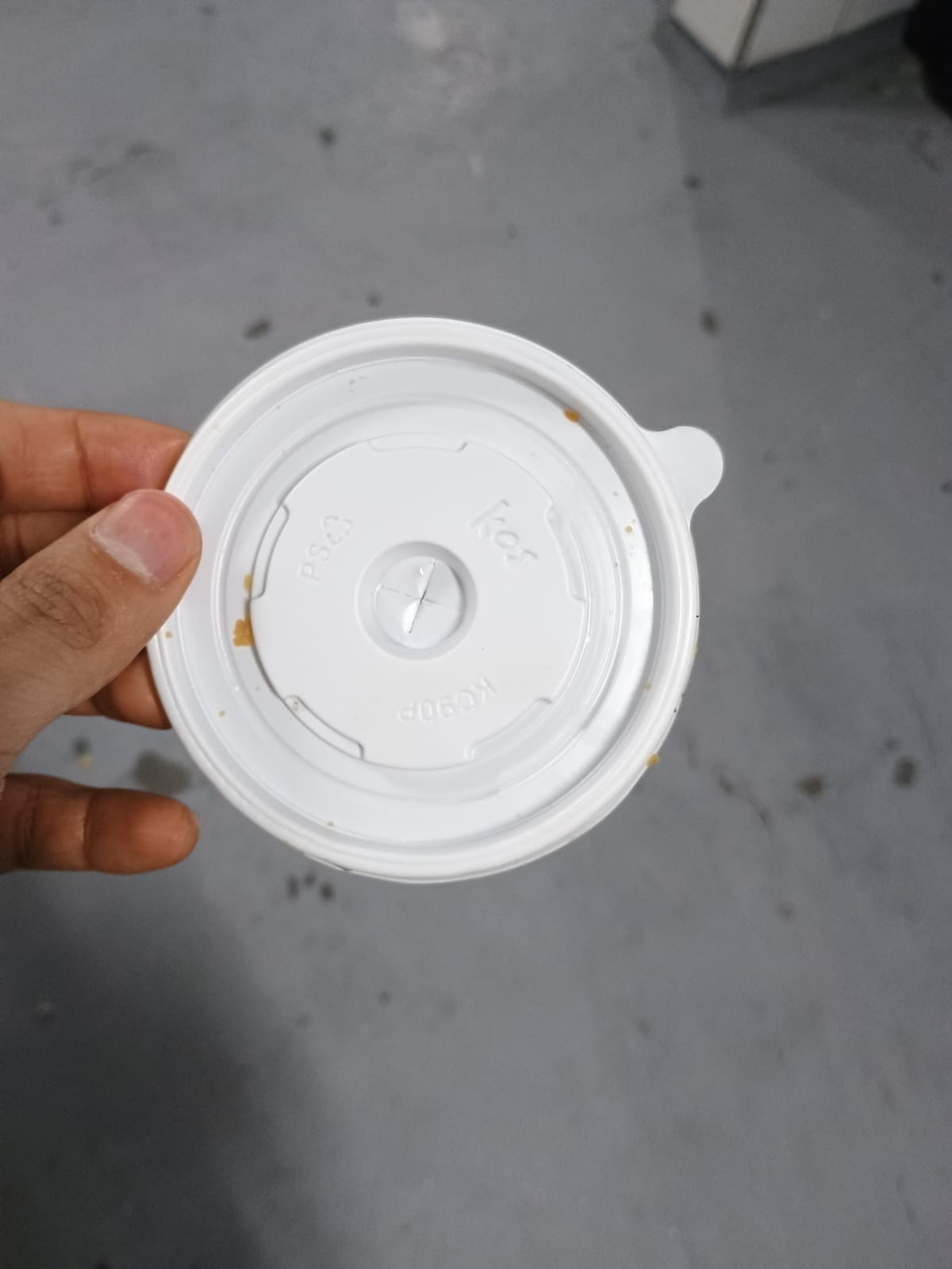Ordinario: (143, 315, 728, 883)
